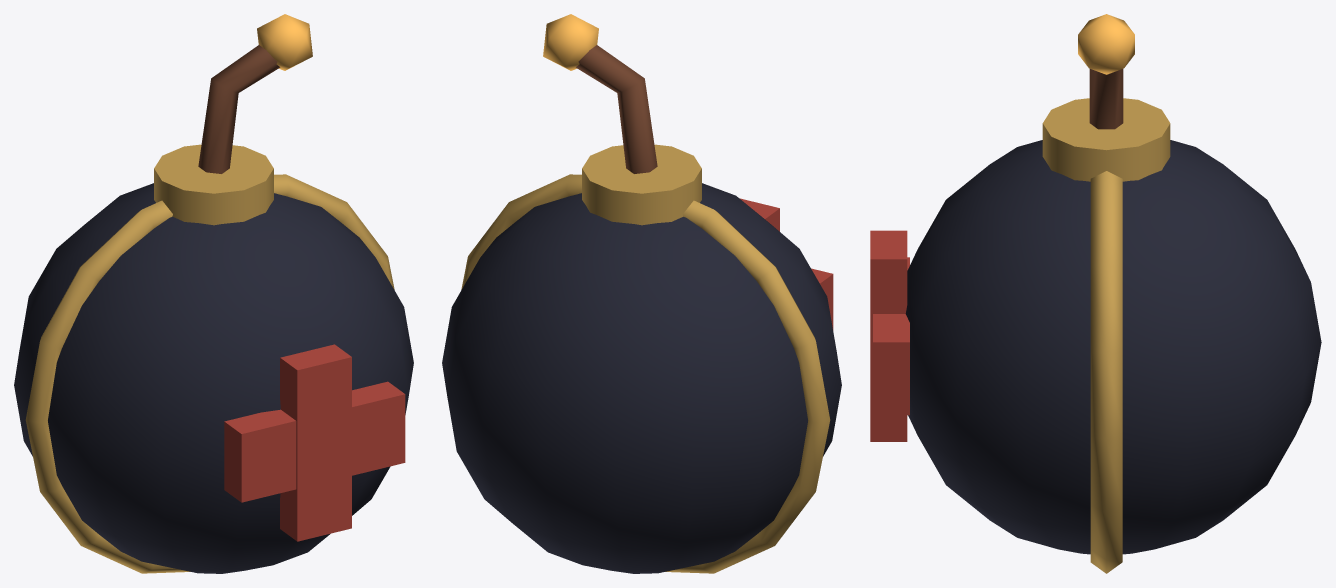
File: big_bomb.fbx
3 views of the same model, side by side, from view 1: azimuth 30°, elevation 25°; view 2: azimuth 150°, elevation 25°; view 3: azimuth 270°, elevation 25° (orthographic). The views are drawn at different scales.
Parts seen in each view (by area): view 1: big_bomb; view 2: big_bomb; view 3: big_bomb.
Boxes of the visible parts, <box> form: big_bomb: <box>14,14,413,573</box>; big_bomb: <box>442,14,841,573</box>; big_bomb: <box>870,14,1321,573</box>.
Bounding box in the file's own units: 0.69 × 0.945 × 0.6715.
